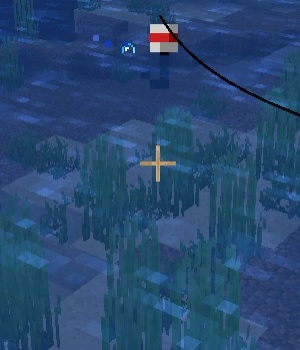up: (142, 18, 182, 92)
